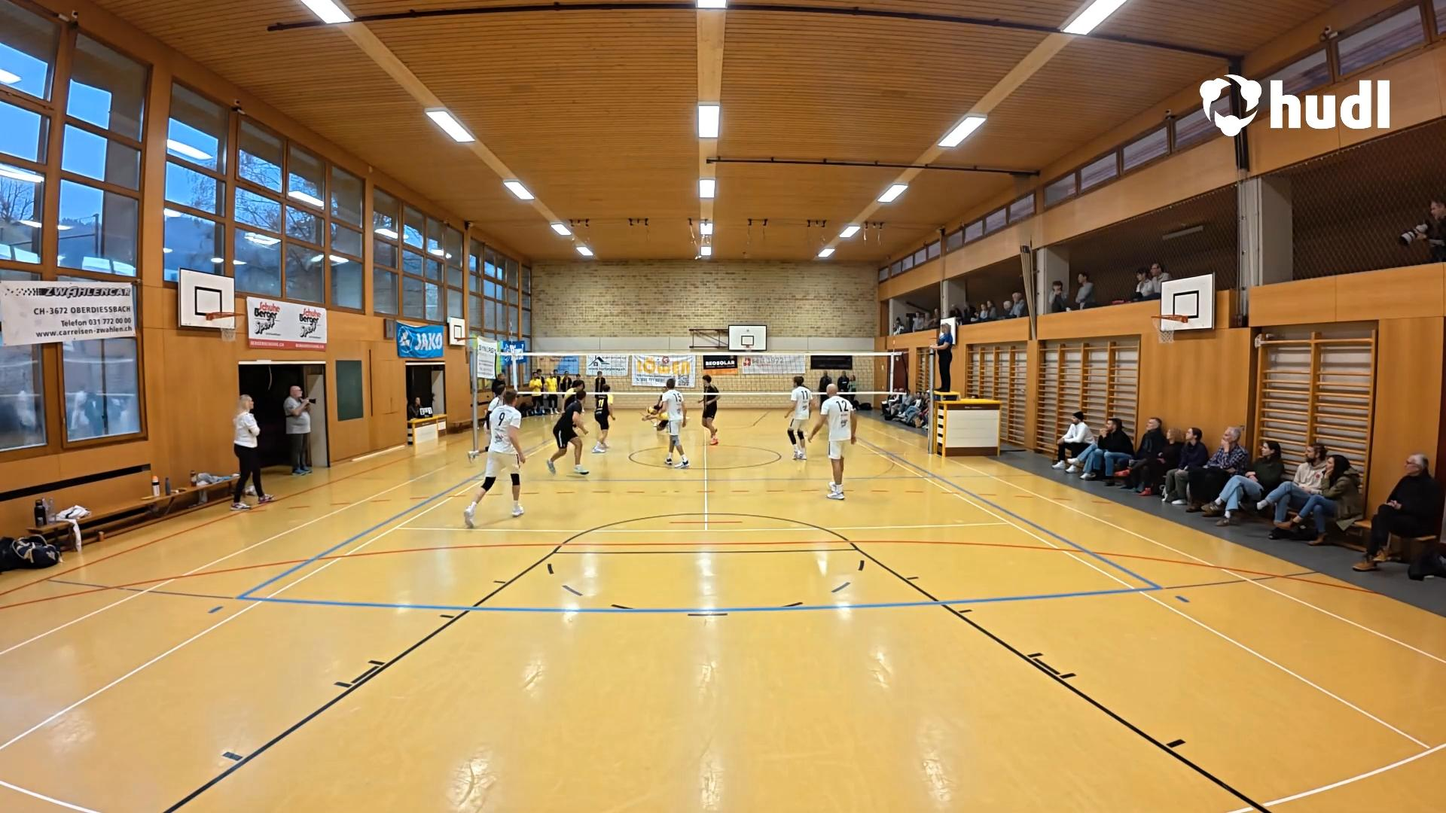difesa: (637, 398, 671, 434)
